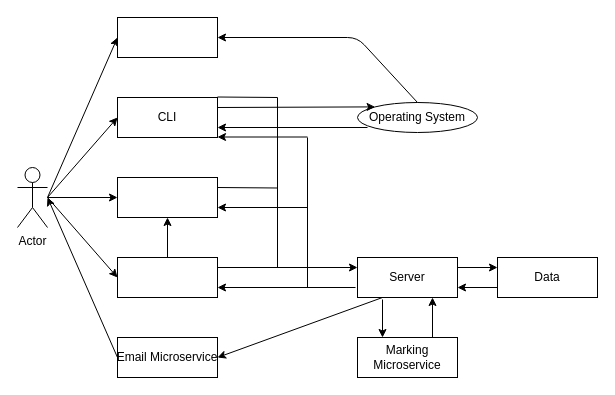
This 615x395 diagram has some shape labels left out. Each missing label, with the box of its shape:
Environment: (116, 16, 218, 58)
Gitlab: (116, 256, 218, 298)
Web app: (116, 176, 218, 218)
